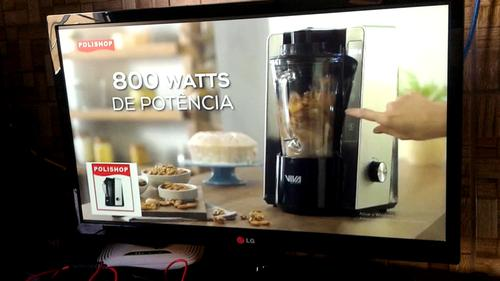Polishop #1: (85, 161, 142, 217)
